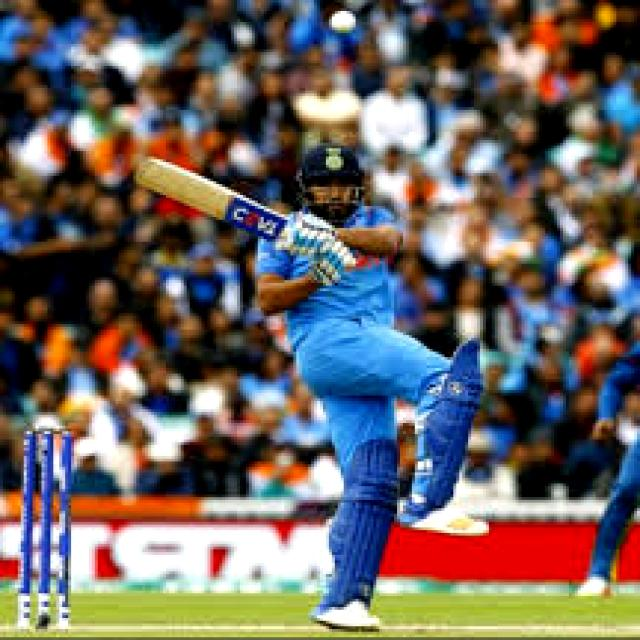toe: (130, 153, 170, 198)
